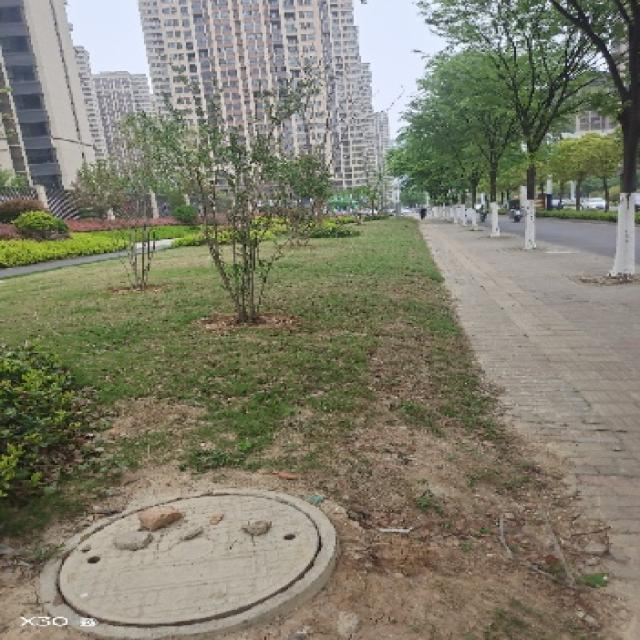Good: (47, 492, 348, 623)
